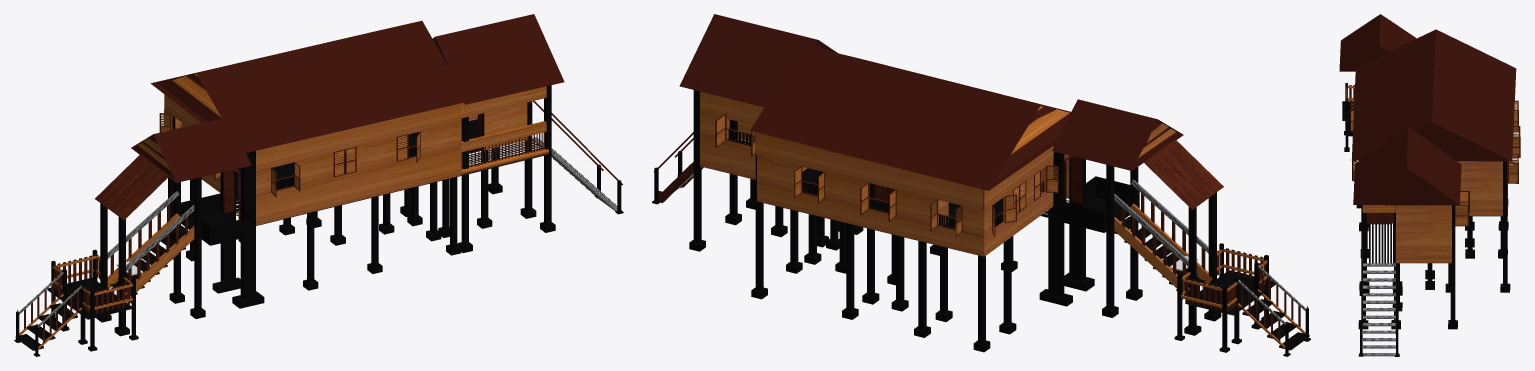
File: majene_3d.glb
3 views of the same model, side by side, from view 1: azimuth 30°, elevation 25°; view 2: azimuth 150°, elevation 25°; view 3: azimuth 270°, elevation 25° (orthographic). The views are drawn at different scales.
Visible parts, largest first — view 1: Cube.005, Cube.003, Kubus.049, Cube.009, Kubus.048, Kubus.003, Kubus.062, Kubus.034, Kubus.088, Kubus.029, Cube.138, Kubus.026 (+10 smaller); view 2: Cube.005, Cube.003, Cube.009, Kubus.019, Kubus.038, Kubus.021, Kubus.055, Kubus.030, Kubus.056, Kubus.012, Kubus.043, Kubus.046 (+16 smaller); view 3: Cube.003, Cube.009, Kubus.006, Cube.005, Kubus.050, Kubus.003, Cube.138, Kubus.012, Kubus.030, Kubus.034, Kubus.026, Cube.028 (+7 smaller).
Boxes of the visible parts, bbox=[...] form: Cube.005: bbox=[14, 117, 264, 356]; Cube.003: bbox=[150, 21, 467, 152]; Kubus.049: bbox=[256, 103, 461, 225]; Cube.009: bbox=[432, 14, 564, 104]; Kubus.048: bbox=[461, 121, 548, 174]; Kubus.003: bbox=[532, 100, 623, 214]; Kubus.062: bbox=[484, 102, 527, 150]; Kubus.034: bbox=[540, 85, 555, 232]; Kubus.088: bbox=[461, 86, 546, 118]; Kubus.029: bbox=[457, 117, 472, 252]; Cube.138: bbox=[233, 140, 554, 225]; Kubus.026: bbox=[520, 101, 536, 218]; Cube.005: bbox=[1039, 99, 1310, 356]; Cube.003: bbox=[750, 45, 1070, 190]; Cube.009: bbox=[679, 14, 837, 107]; Kubus.019: bbox=[756, 132, 982, 210]; Kubus.038: bbox=[757, 181, 983, 256]; Kubus.021: bbox=[983, 146, 1053, 256]; Kubus.055: bbox=[700, 134, 755, 179]; Kubus.030: bbox=[689, 82, 705, 251]; Kubus.056: bbox=[700, 91, 763, 125]; Kubus.012: bbox=[751, 132, 767, 299]; Kubus.043: bbox=[824, 172, 869, 208]; Kubus.046: bbox=[757, 156, 800, 190]; Cube.003: bbox=[1351, 29, 1516, 161]; Cube.009: bbox=[1353, 126, 1461, 205]; Kubus.006: bbox=[1396, 205, 1451, 263]; Cube.005: bbox=[1339, 14, 1416, 208]; Kubus.050: bbox=[1455, 161, 1507, 215]; Kubus.003: bbox=[1358, 228, 1399, 356]; Cube.138: bbox=[1362, 223, 1393, 265]; Kubus.012: bbox=[1500, 161, 1510, 292]; Kubus.030: bbox=[1448, 195, 1457, 329]; Kubus.034: bbox=[1358, 205, 1368, 329]; Kubus.026: bbox=[1391, 205, 1400, 329]; Cube.028: bbox=[1455, 205, 1469, 226].
Size of what is drawn, in the model's own units: 231 by 75.41 by 72.44.
55 materials, 55 textured.
